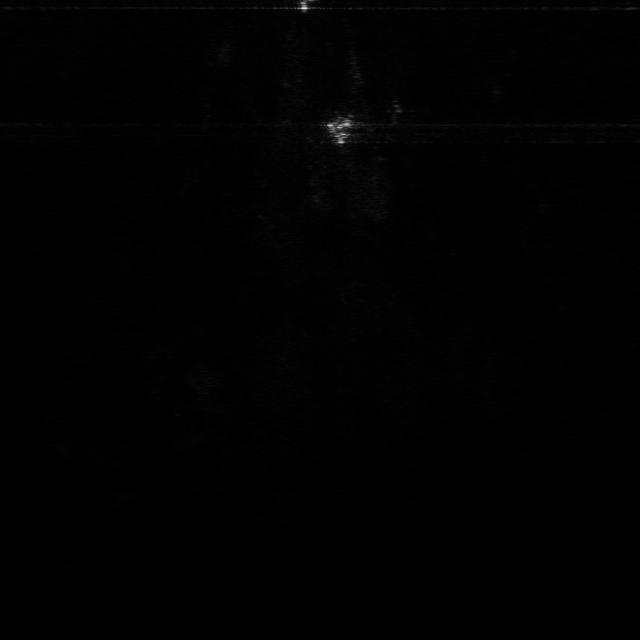rov: (322, 117, 357, 146)
